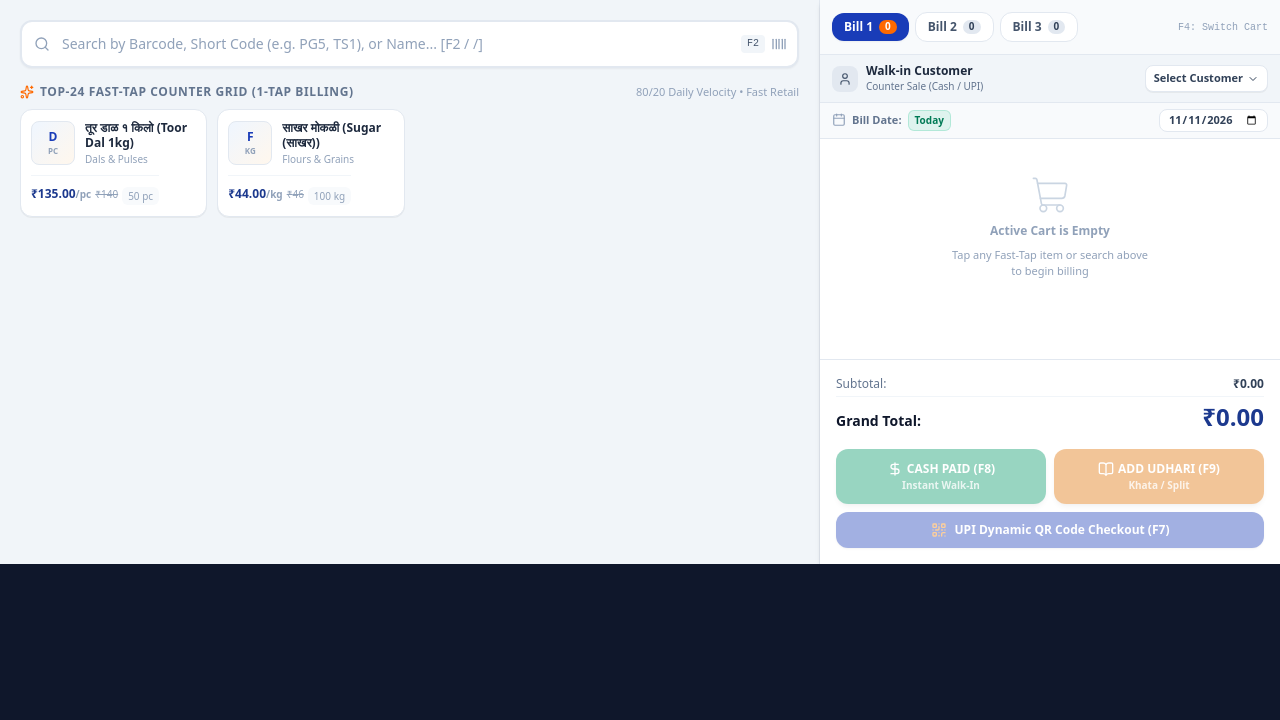
Test case: Zero-Mouse Keyboard Shortcut Engine & Same-Account Multi-Device Sync Suite › 2. Universal Esc Hierarchy: Closes modal -> Clears search input -> Retains focus
The width and height of the screenshot is (1280, 720).
Type query in search input
Replace the text in the field with test id "pos-search-input" with "sugar" at coordinates (410, 44), box left=20, top=20, right=799, bottom=68
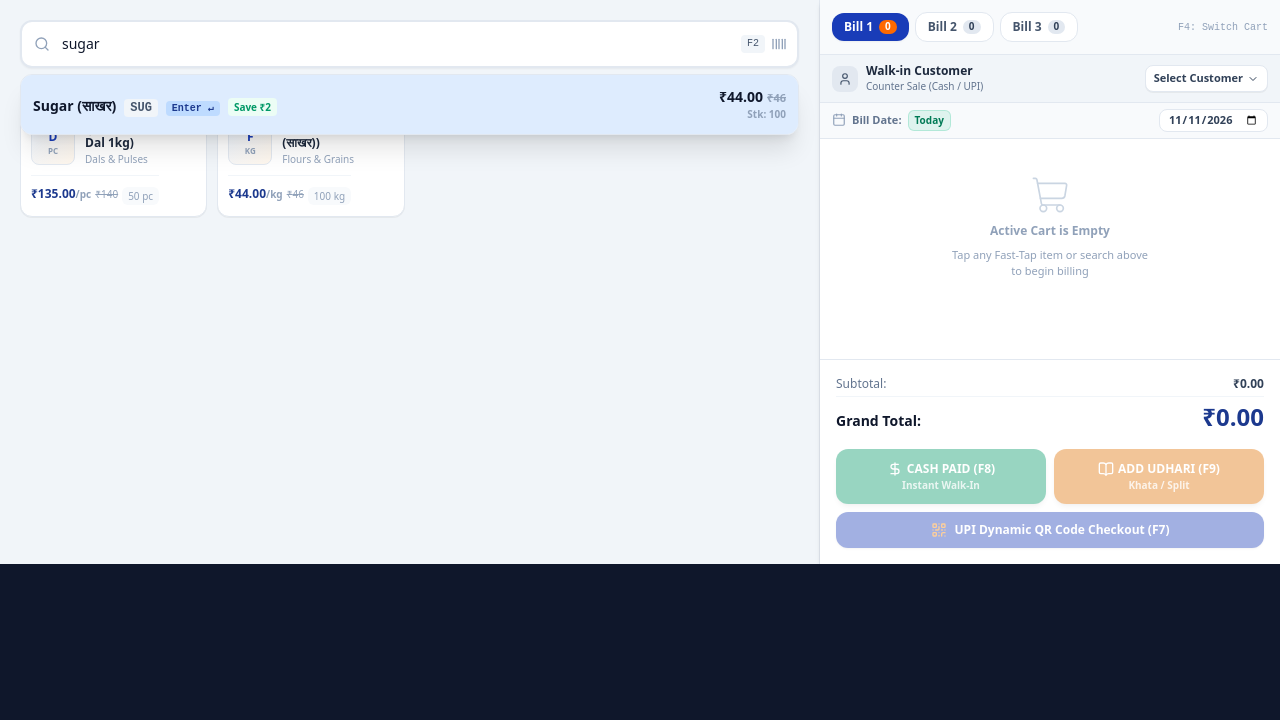
Press Escape in the field with test id "pos-search-input", box left=20, top=20, right=799, bottom=68
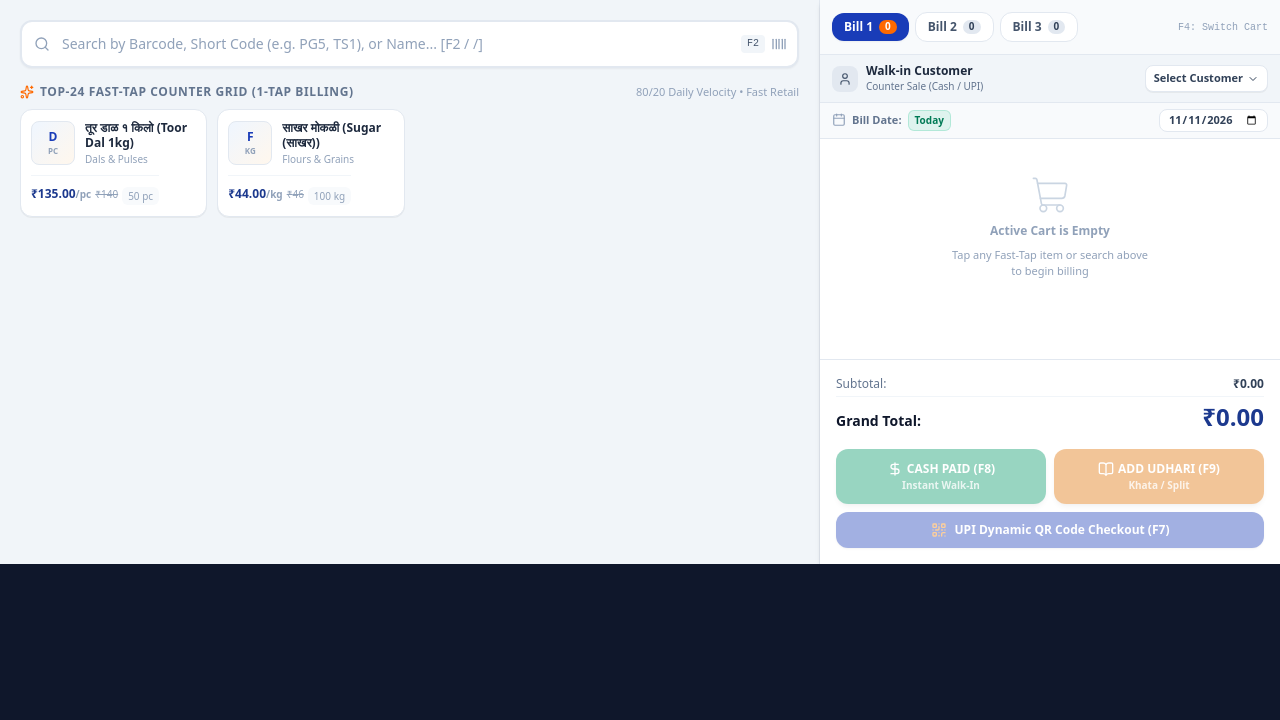
Expected: the field with test id "pos-search-input" is empty, left=20, top=20, right=799, bottom=68
Open Cheat Sheet with "?" key
Press ?
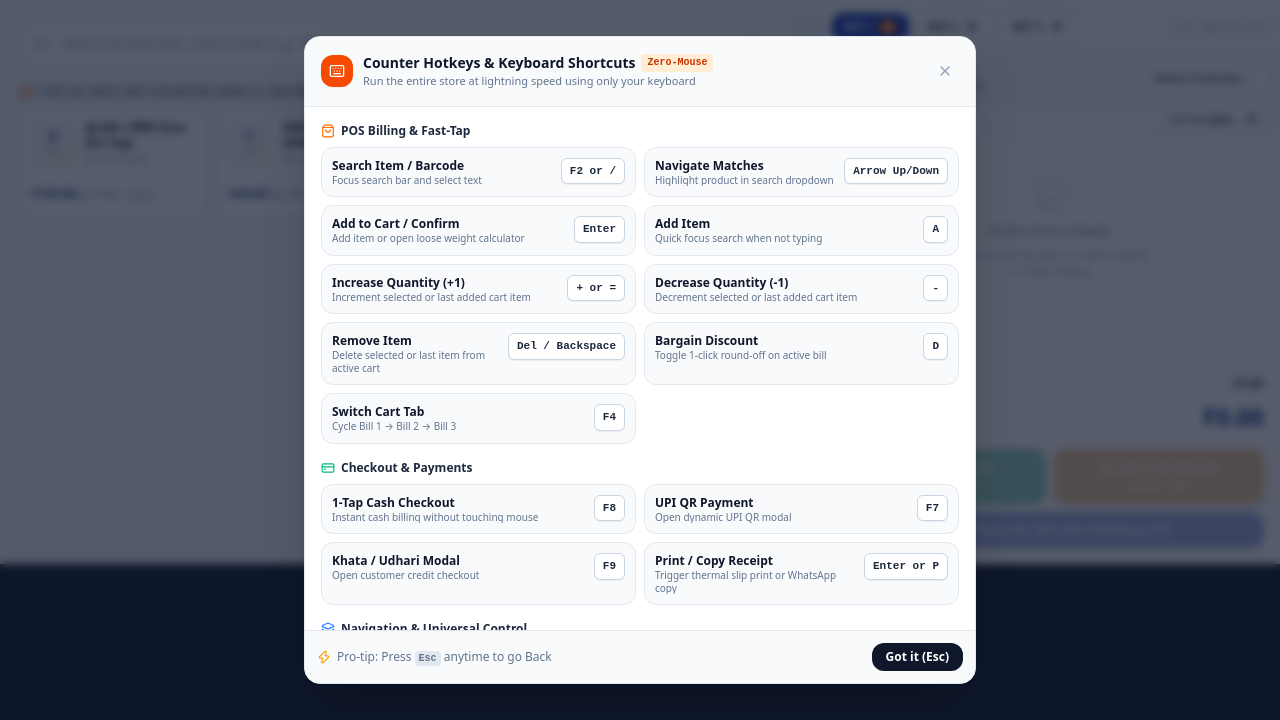
Expected: the dialog with test id "keyboard-shortcuts-modal" is shown
Press Escape
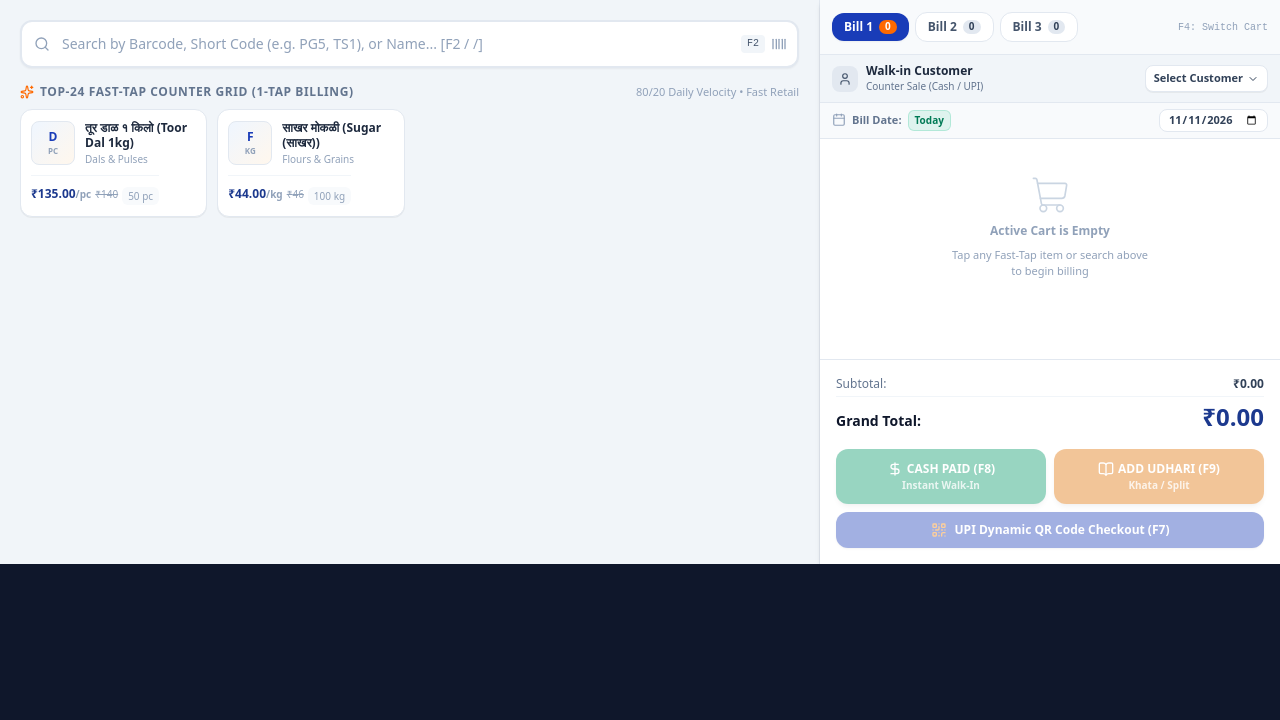
Expected: the dialog with test id "keyboard-shortcuts-modal" is gone
